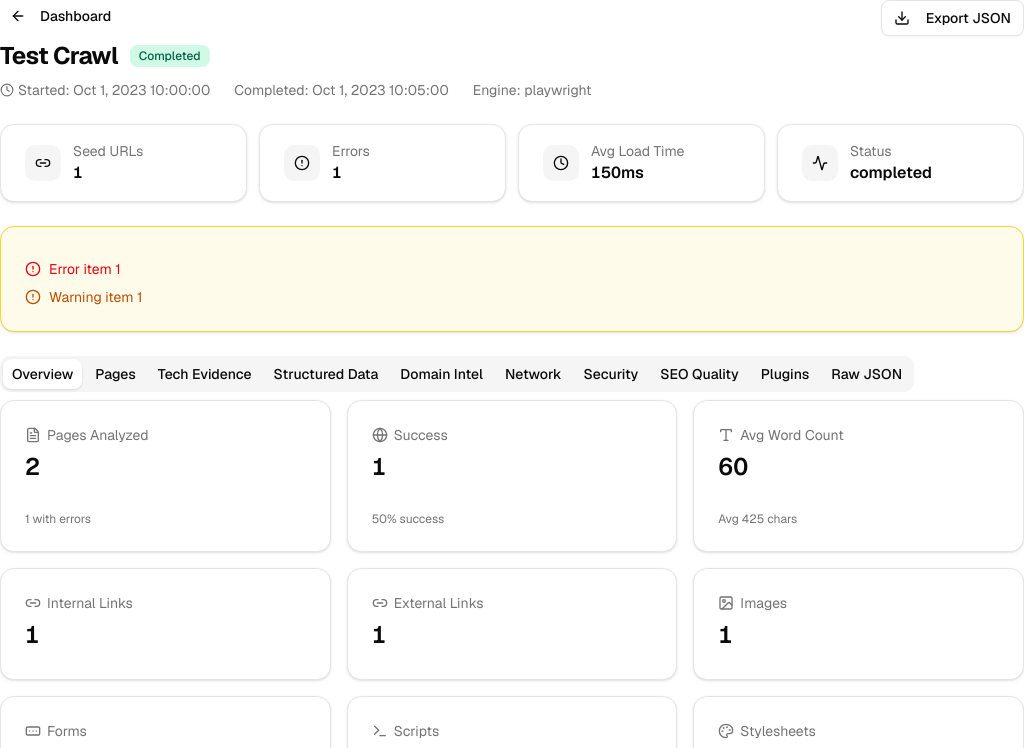
CrawlDetailView › renders Domain Intel tab content
Expected: the heading "Test Crawl" is shown, [0,40,118,72]
Click the tab "Domain Intel" at (442, 374), box [391,359,492,389]
(page scrolled)
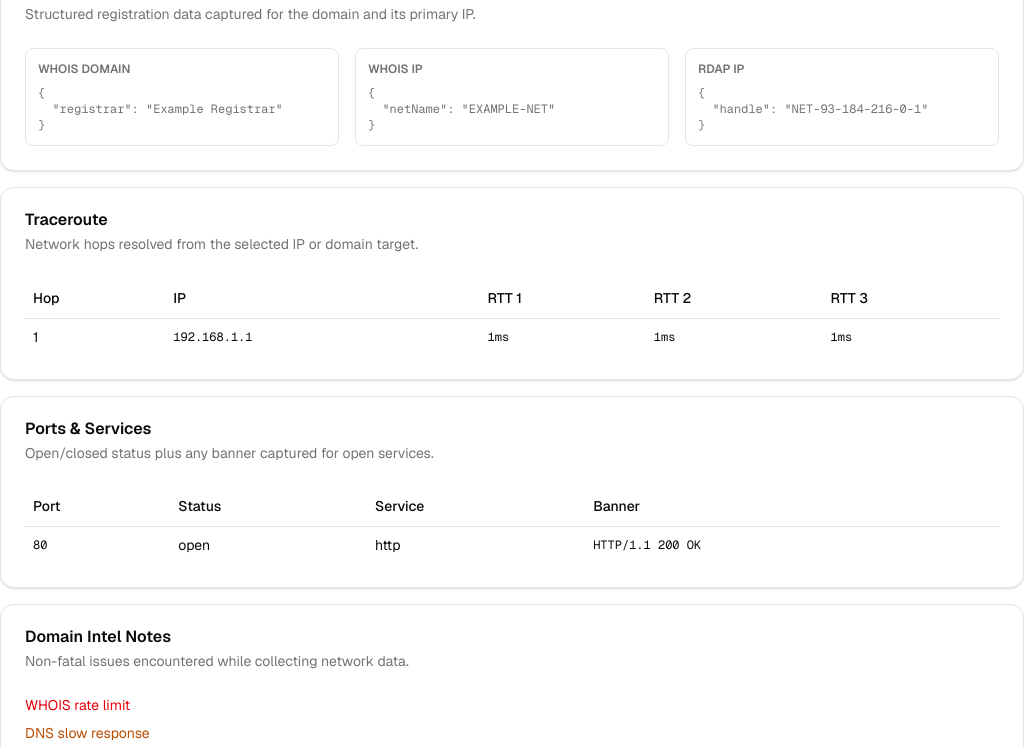
Expected: the text "Traceroute" is shown, [25,209,108,230]
Expected: the text "Ports & Services" is shown, [25,418,151,438]
Expected: the text "Domain Intel Notes" is shown, [25,626,171,647]
